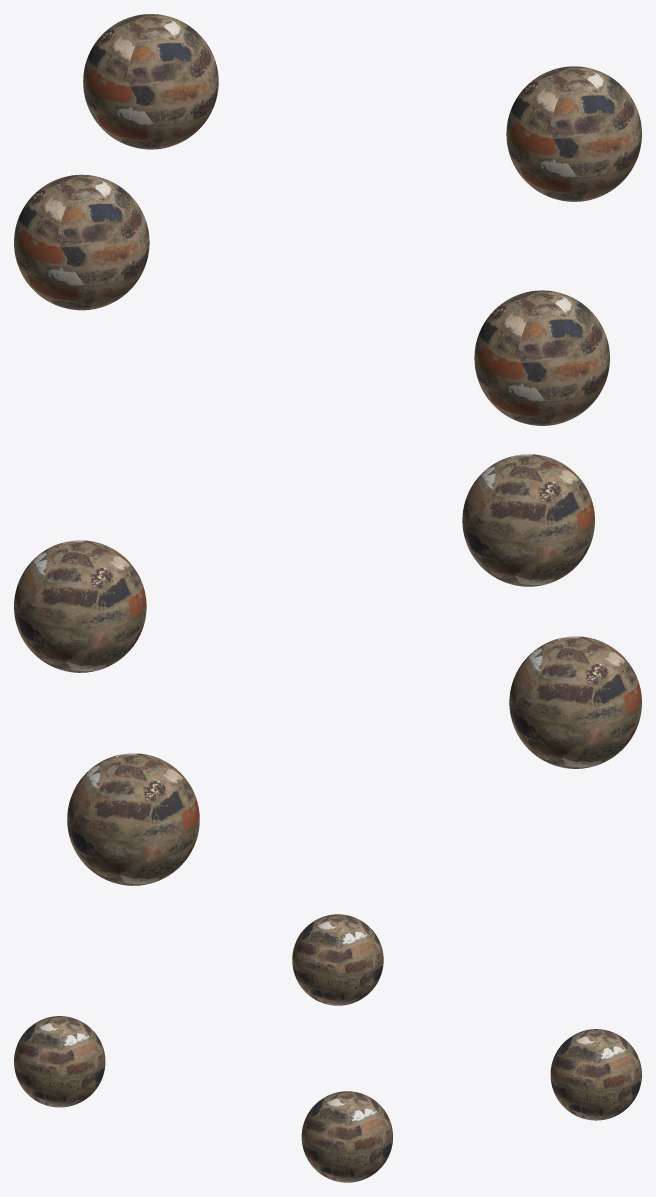
Rendered from spherescene.obj.
3 views of the same model, one above another, from view 1: azimuth 30°, elevation 25°; view 2: azimuth 150°, elevation 25°; view 3: azimuth 270°, elevation 25° (orthographic). The views are drawn at different scales.
Parts seen in each view (by area): view 1: Icosphere, Icosphere.003, Icosphere.002, Icosphere.001; view 2: Icosphere.002, Icosphere.003, Icosphere.001, Icosphere; view 3: Icosphere.001, Icosphere.002, Icosphere.003, Icosphere.
Boxes of the visible parts, x1=… form: Icosphere: x1=83, y1=14, x2=218, y2=149; Icosphere.003: x1=506, y1=66, x2=641, y2=201; Icosphere.002: x1=474, y1=290, x2=609, y2=425; Icosphere.001: x1=14, y1=174, x2=149, y2=310; Icosphere.002: x1=462, y1=454, x2=594, y2=586; Icosphere.003: x1=14, y1=540, x2=146, y2=672; Icosphere.001: x1=509, y1=636, x2=641, y2=768; Icosphere: x1=67, y1=753, x2=199, y2=885; Icosphere.001: x1=292, y1=914, x2=383, y2=1005; Icosphere.002: x1=14, y1=1016, x2=105, y2=1107; Icosphere.003: x1=301, y1=1091, x2=392, y2=1182; Icosphere: x1=550, y1=1029, x2=641, y2=1120.
Bounding box in the file's own units: 10.5 × 2.7 × 13.73.
